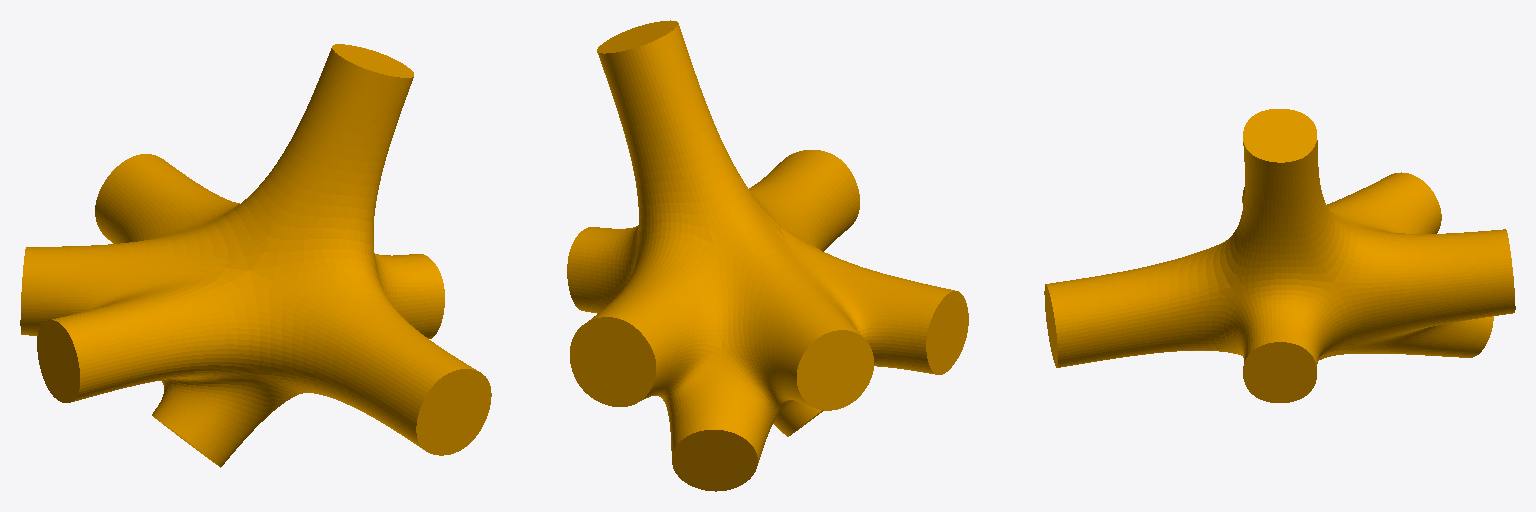
The robot description file, URDF, robot "object":
<robot name="object">
  <link name="object">
    <visual>
      <origin xyz="0 0 0"/>
      <geometry>
        <mesh filename="visual.obj" scale="1 1 1"/>
      </geometry>
    </visual>
    <collision>
      <origin xyz="0 0 0"/>
      <geometry>
        <mesh filename="visual.obj" scale="1 1 1"/>
      </geometry>
    </collision>
    <inertial>
      <mass value="0.05"/>
      <inertia ixx="0.0002067930690254589" iyy="0.0001592259140860412" izz="0.00024638302504312516" ixy="3.941333600159893e-05" ixz="-2.6396538582450007e-05" iyz="7.18834454966018e-06"/>
    </inertial>
  </link>
</robot>

--- What the picture shows (computed from the rendered views, not written in the file) ---
3 views of the same robot in one strip: view 1: azimuth 30°, elevation 25°; view 2: azimuth 150°, elevation 25°; view 3: azimuth 270°, elevation 25° (orthographic).
Robot: object — 1 links, 0 joints (none); root link object; default pose: every joint at zero.
Visible links, largest first — view 1: object; view 2: object; view 3: object.
Link boxes in pixels (x1,y1,x2,y2): object: (20,44,491,467); object: (567,20,968,491); object: (1044,109,1515,402).
Size in the robot's own frame: 0.2251 by 0.2843 by 0.2187 metres.
1 mesh visuals loaded from 1 distinct referenced files (1 OBJ).
